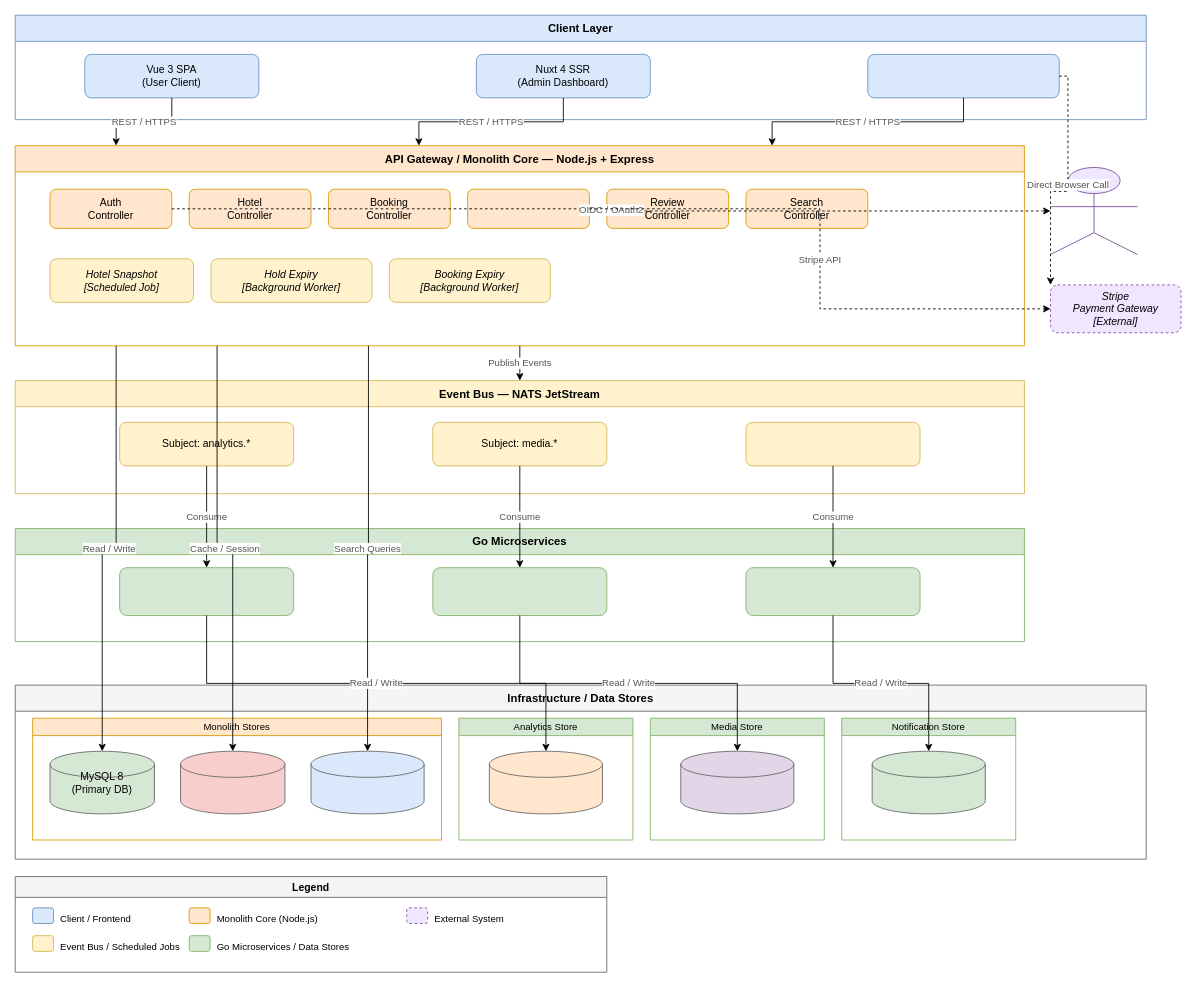
Image size: 1196x987. Some labels were removed from this diagram. Each missing label, with the centre of its shape:
"Analytics Service" belongs at (x=206, y=591).
"ClickHouse (Analytics DB)" belongs at (x=545, y=782).
"Elasticsearch 8.11 (Search Index)" belongs at (x=367, y=782).
"Keycloak (Identity Provider)" belongs at (x=1094, y=210).
"Media Service" belongs at (x=519, y=591).
"MinIO (Object Storage)" belongs at (x=737, y=782).
"MongoDB (Notifications)" belongs at (x=928, y=782).
"Notification Service" belongs at (x=832, y=591).
"Payment Controller" belongs at (x=528, y=208).
"Redis 7 (Cache / Session)" belongs at (x=232, y=782).
"Stripe.js (Payment UI) [Client-side SDK]" belongs at (x=963, y=76).
"Subject: notification.*" belongs at (x=832, y=444).
